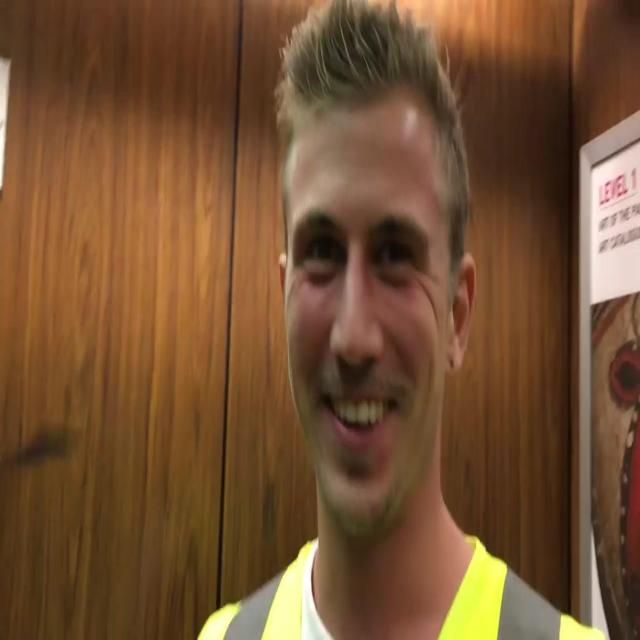vest: (195, 536, 609, 639)
